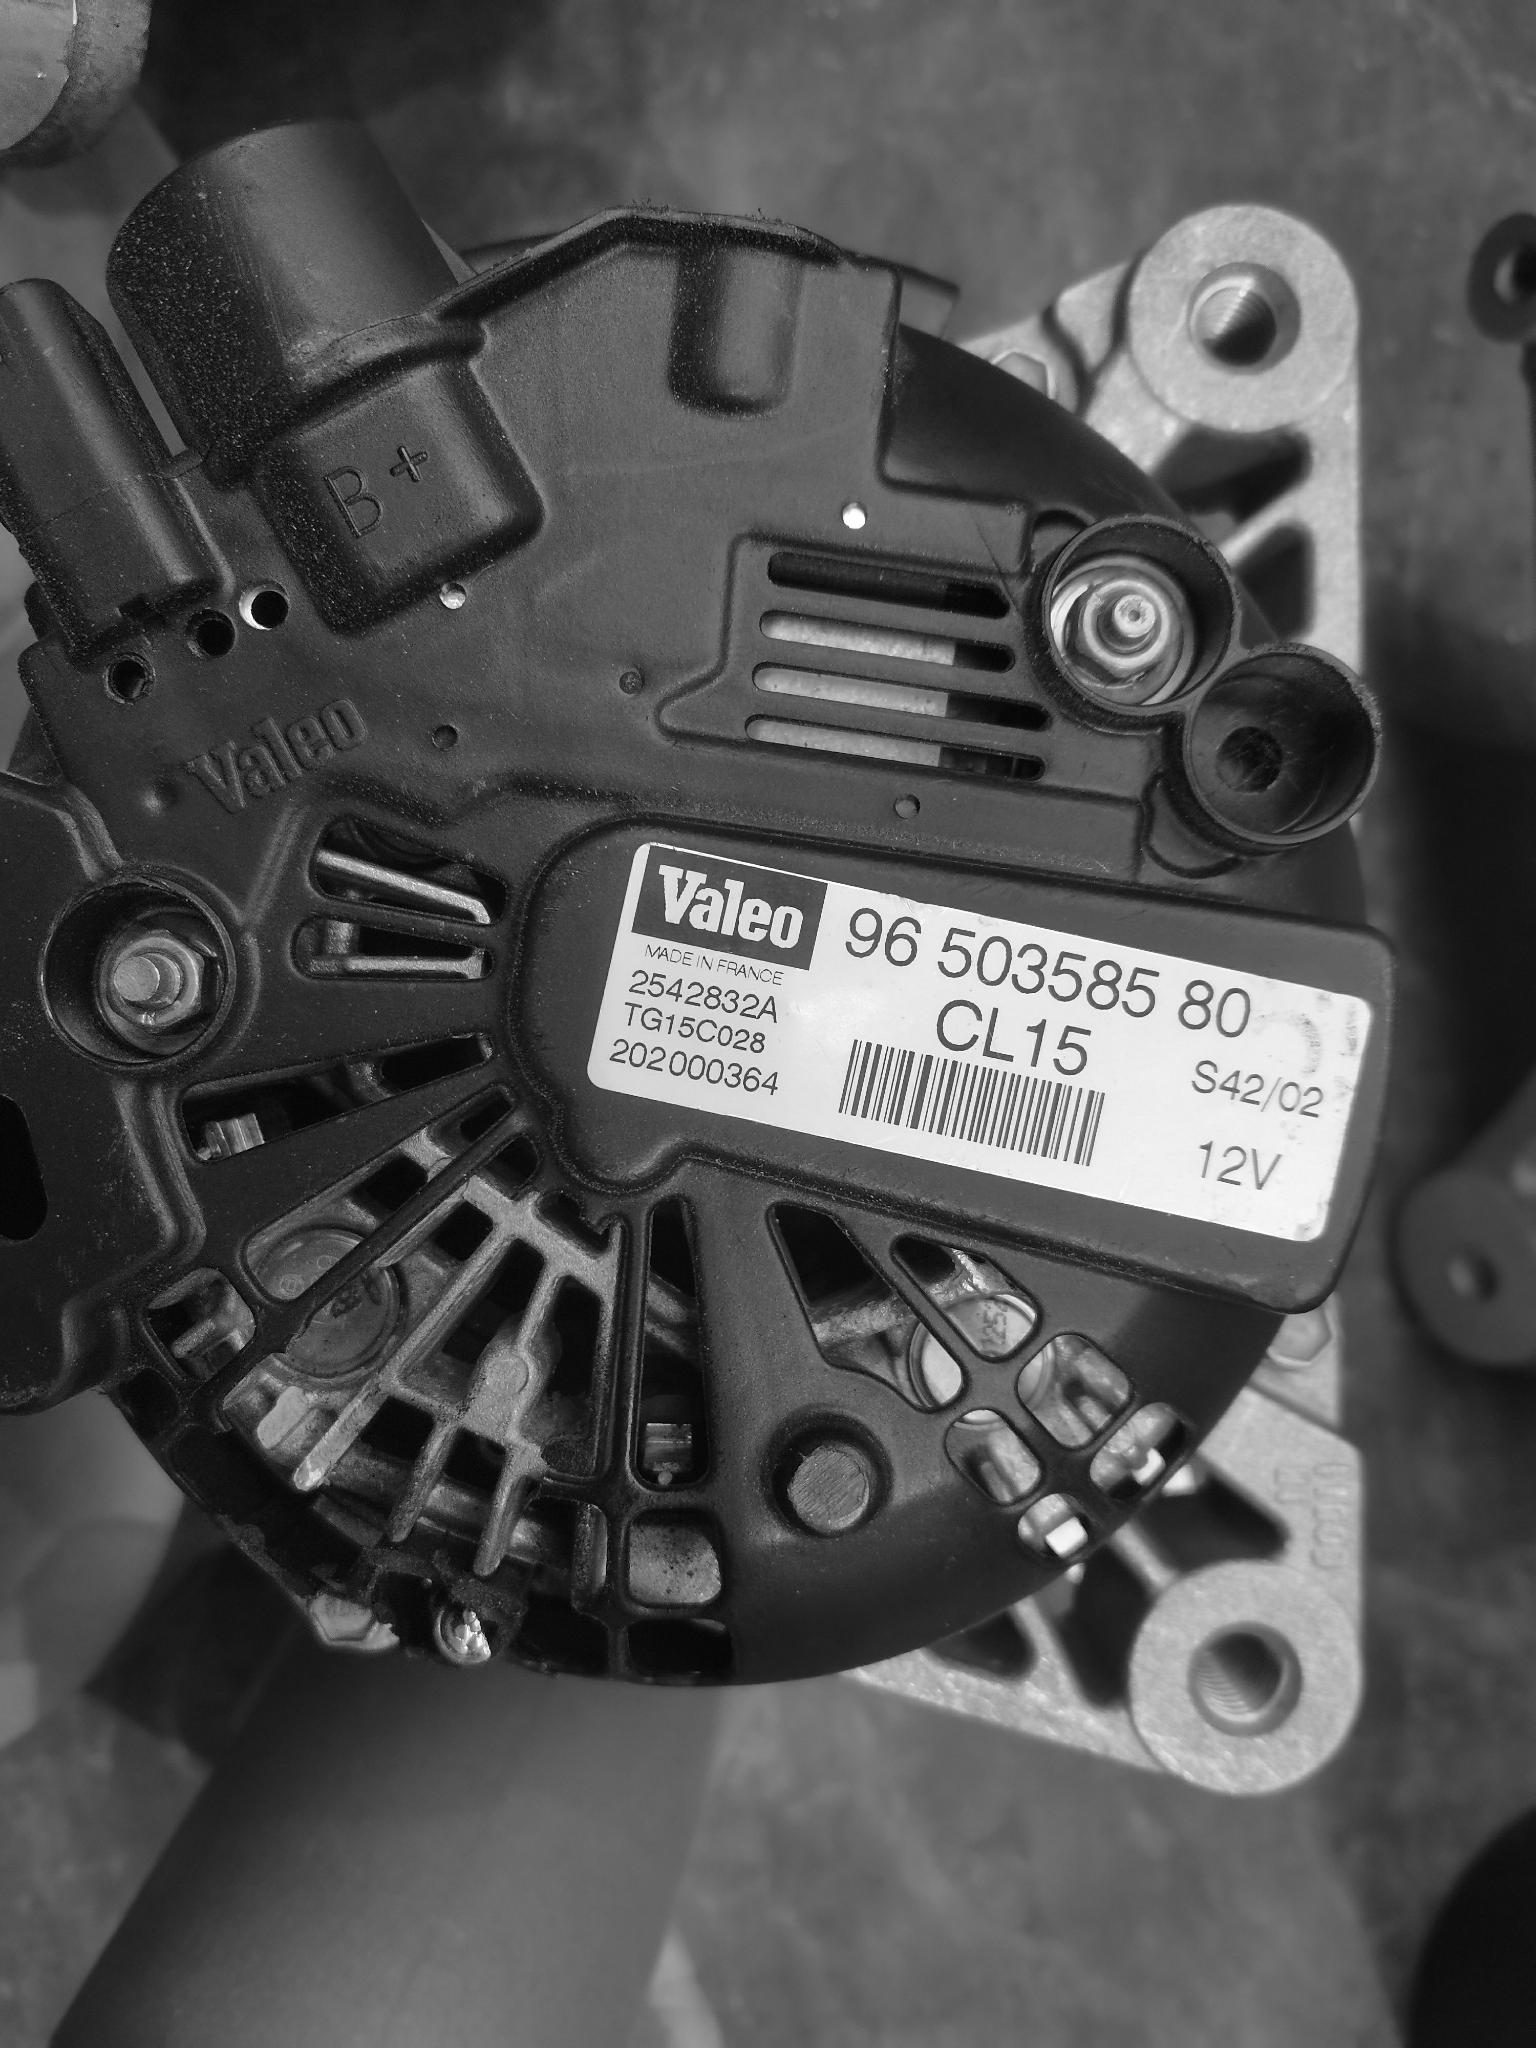hexagonal: (95, 914, 231, 1048), (1063, 569, 1187, 689)
